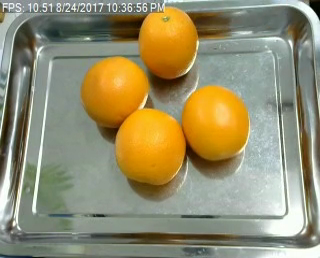Orange: (116, 106, 187, 183), (182, 83, 249, 160), (81, 55, 150, 125), (138, 6, 199, 80)
